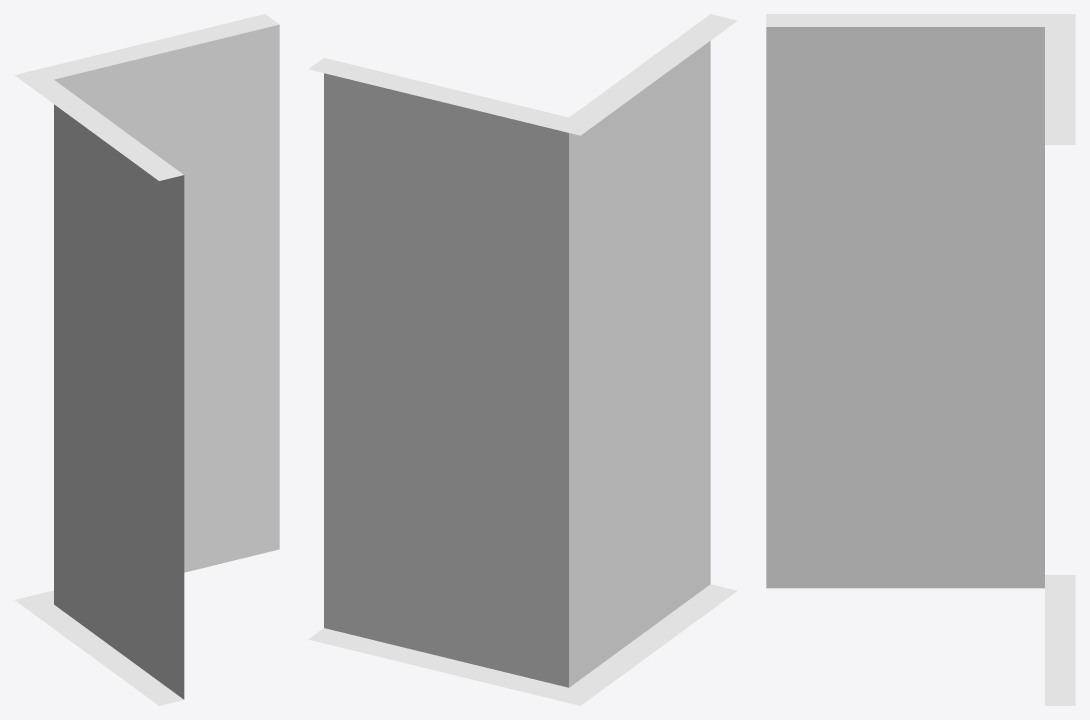
The model's file is Int-V1CornerPlain.fbx.
3 renders of one model, left to right at view 1: azimuth 30°, elevation 25°; view 2: azimuth 150°, elevation 25°; view 3: azimuth 270°, elevation 25°, orthographic. The views are drawn at different scales.
Visible parts, largest first — view 1: Int-V1CornerPlain; view 2: Int-V1CornerPlain; view 3: Int-V1CornerPlain.
Part boxes in pixels (x1,y1,x2,y2): Int-V1CornerPlain: (14,14,279,705); Int-V1CornerPlain: (308,14,737,705); Int-V1CornerPlain: (766,14,1075,705).
Size of the model in its own units: 100 by 200 by 100.
